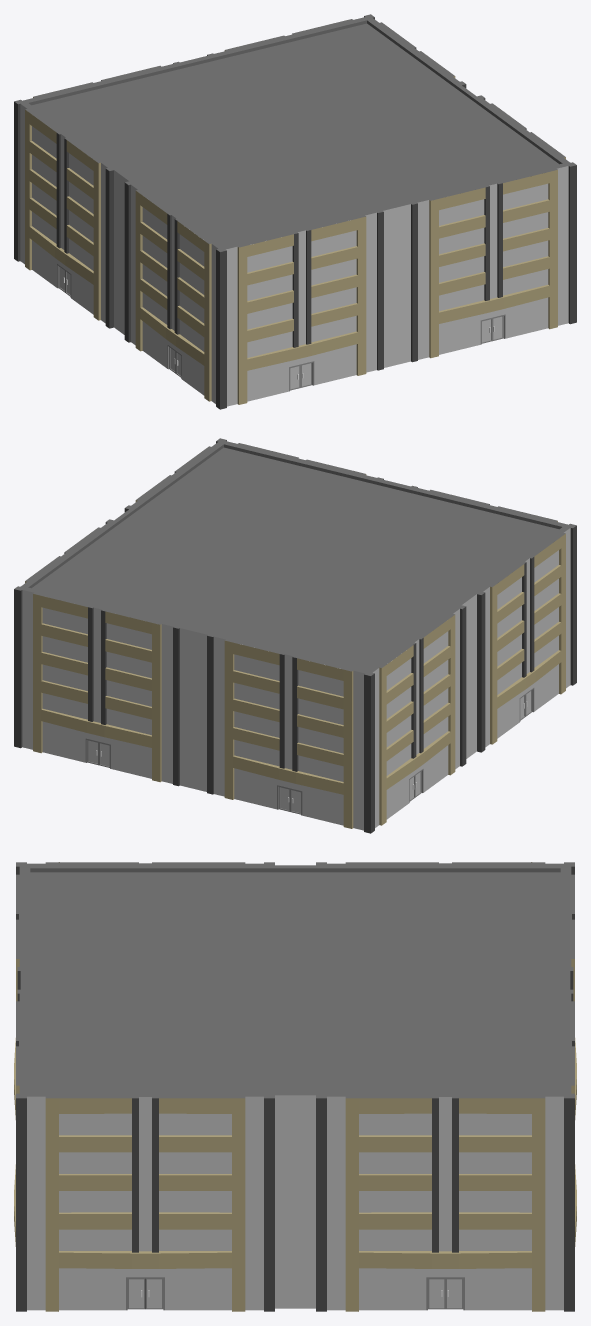
3 renders of one model, top to bottom at view 1: azimuth 30°, elevation 25°; view 2: azimuth 150°, elevation 25°; view 3: azimuth 270°, elevation 25°, orthographic. The views are drawn at different scales.
Parts seen in each view (by area): view 1: QD-03; view 2: QD-03; view 3: QD-03.
Part boxes in pixels (x1=…): QD-03: x1=14, y1=14, x2=576, y2=409; QD-03: x1=14, y1=438, x2=576, y2=833; QD-03: x1=14, y1=862, x2=576, y2=1311.
Size of what is drawn, in the model's own units: 40.22 by 16.83 by 40.23.
